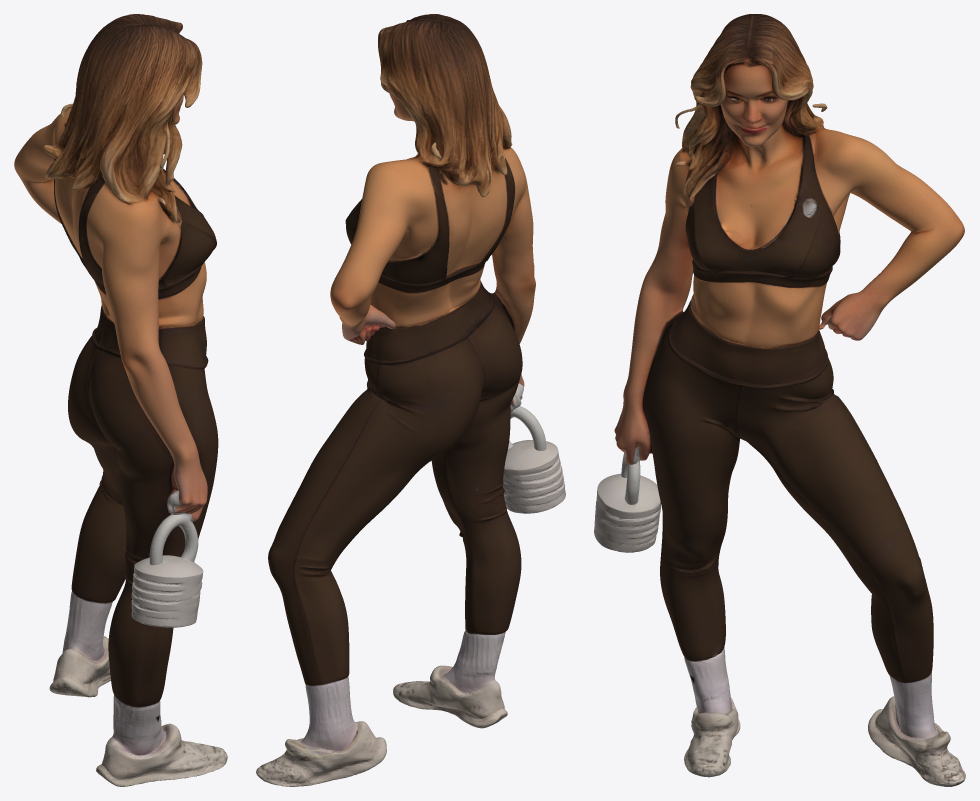
The model's file is flow_zip_up_jacket.glb.
3 views of the same model, side by side, from view 1: azimuth 30°, elevation 25°; view 2: azimuth 150°, elevation 25°; view 3: azimuth 270°, elevation 25° (orthographic). The views are drawn at different scales.
Parts seen in each view (by area): view 1: tripo_node_434abaed-cbe9-435a-a63d-fc6ba18294c6; view 2: tripo_node_434abaed-cbe9-435a-a63d-fc6ba18294c6; view 3: tripo_node_434abaed-cbe9-435a-a63d-fc6ba18294c6.
Boxes of the visible parts, x1,y1,x2,y2 form: tripo_node_434abaed-cbe9-435a-a63d-fc6ba18294c6: (14,14,227,786); tripo_node_434abaed-cbe9-435a-a63d-fc6ba18294c6: (256,14,565,786); tripo_node_434abaed-cbe9-435a-a63d-fc6ba18294c6: (594,14,965,786).
Size of the model in its own units: 0.2403 by 0.9987 by 0.4633.
Materials: 1 (1 with a texture image).
